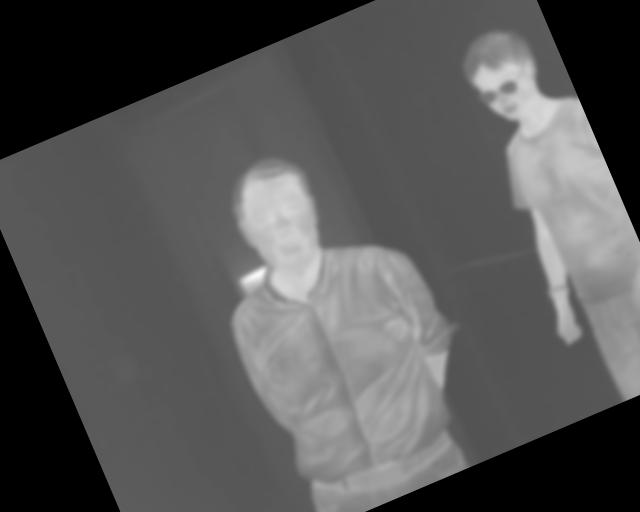face: (215, 144, 340, 288), (450, 17, 555, 134)
